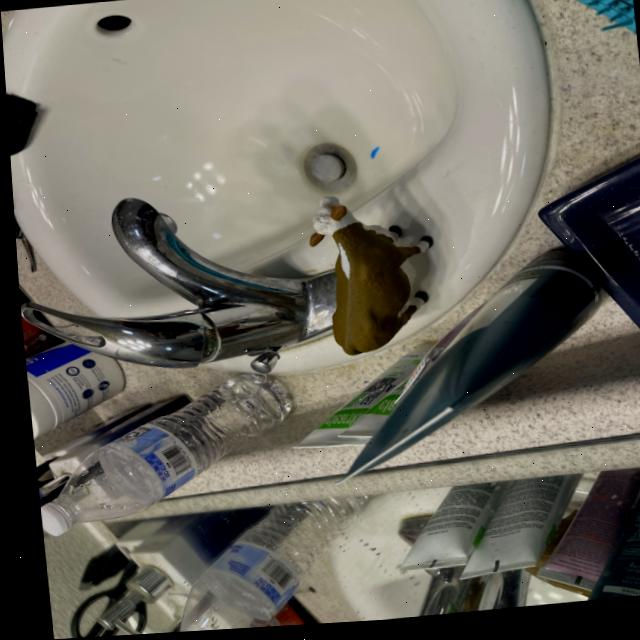cow: (295, 199, 432, 366)
